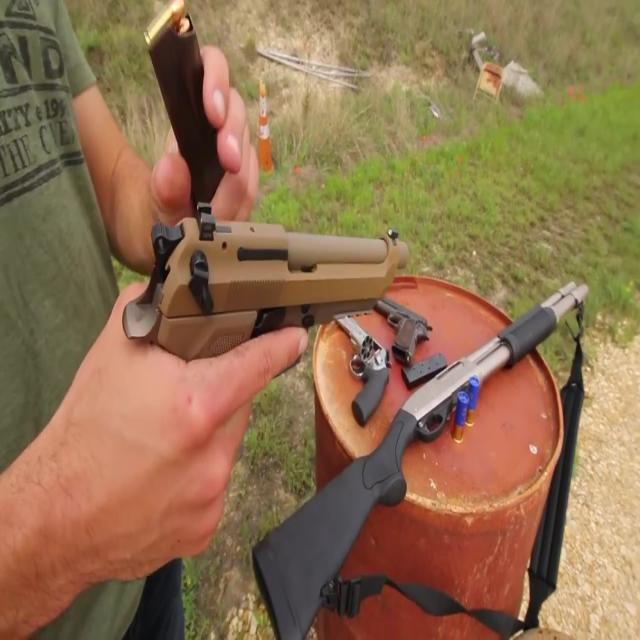Weapon: (70, 0, 612, 640)
